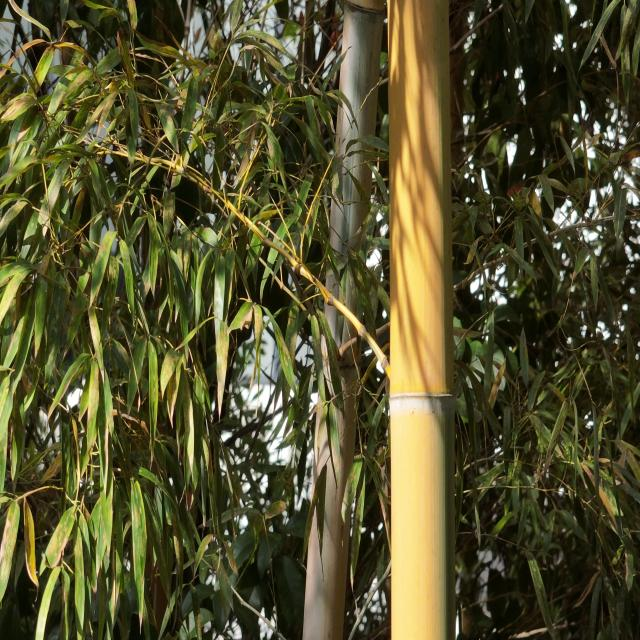Bamboo-shoots: (387, 0, 454, 640)
